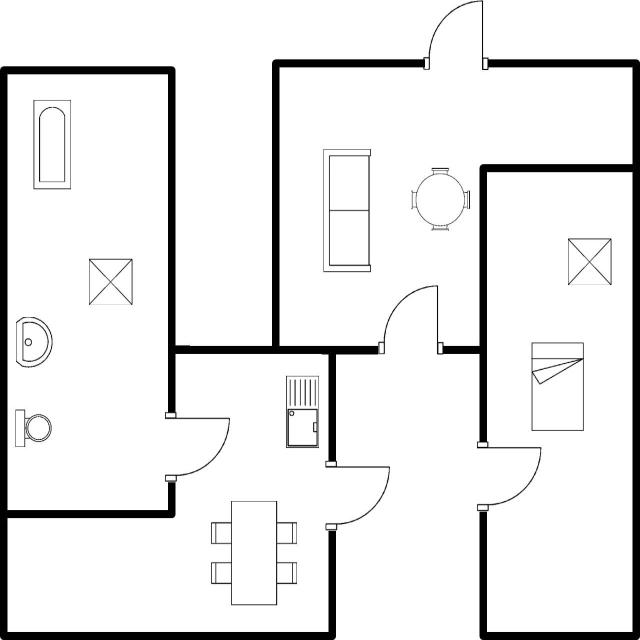bed: (526, 338, 588, 436)
coffee_table: (563, 234, 615, 292), (85, 253, 137, 309)
dining_table: (207, 495, 297, 609)
large_sink: (12, 405, 54, 452)
large_sofa: (318, 144, 376, 278)
round_table: (404, 162, 474, 236)
sink: (280, 371, 320, 453)
small_sink: (12, 314, 54, 372)
tub: (29, 95, 74, 193)
